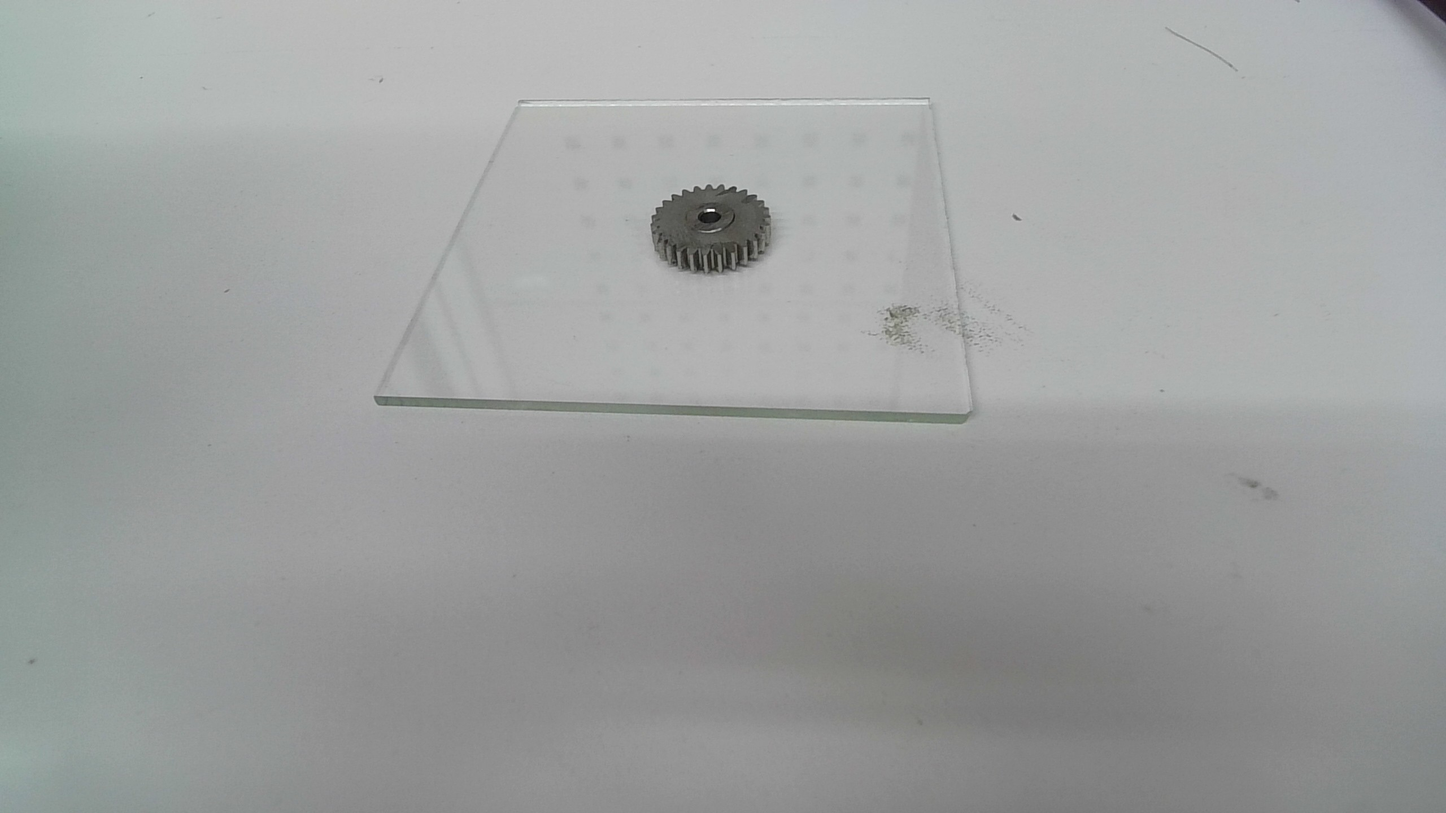gear: (650, 182, 776, 273)
